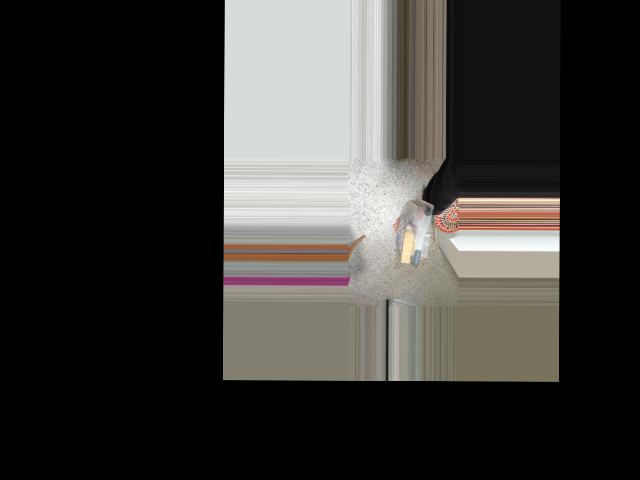cheese: (394, 200, 436, 267)
